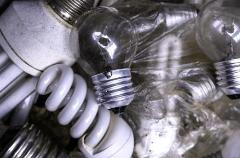lightbulb: (0, 1, 240, 158), (194, 0, 240, 62)
